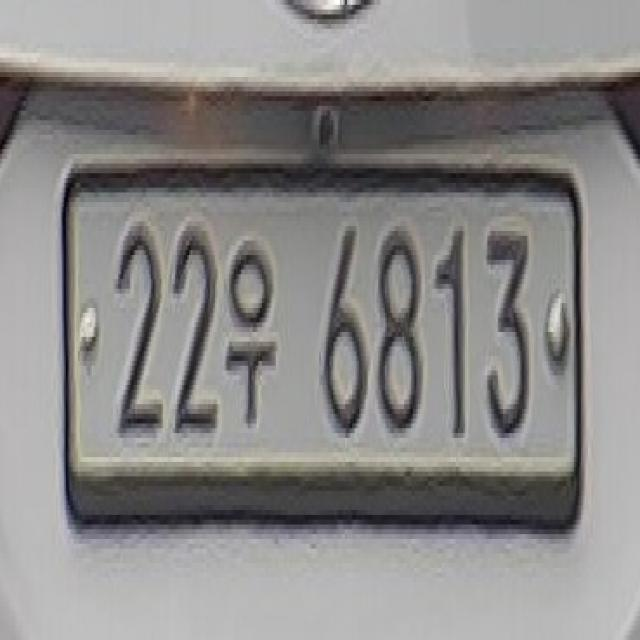2: (114, 216, 164, 446)
license_plate: (50, 148, 592, 543)
